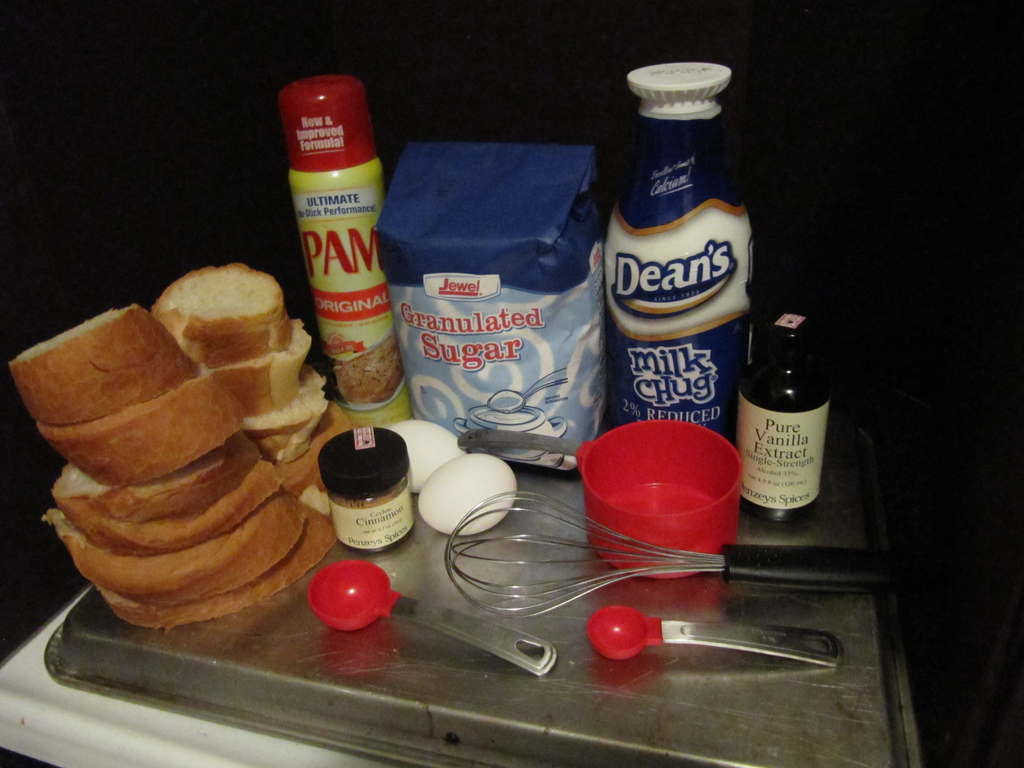slice of bread: (5, 261, 311, 418), (54, 462, 338, 606), (52, 381, 329, 470)
